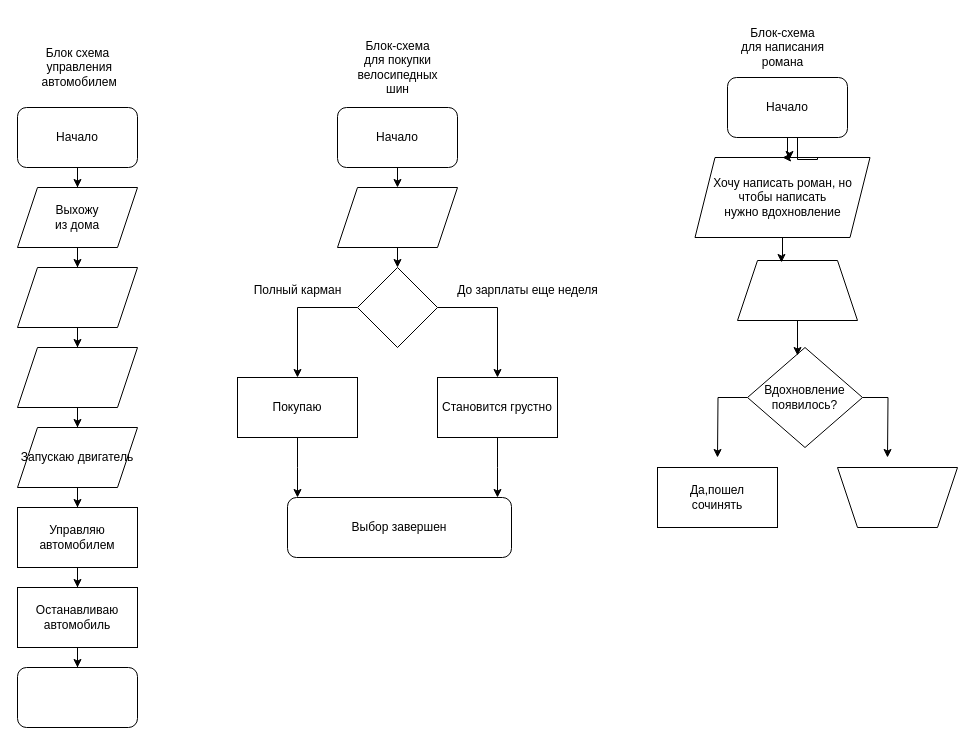
The diagram is 975 pixels wide and 745 high, and some of its shapes have lost their labels. Each missing label, with the centre of its shape:
Деньги есть?: the point at 397,307
Нет, кофе закончилось: the point at 897,497
Поездка завершена: the point at 77,697
Пью кофе пока не вдохновлюсь: the point at 797,290
Сажусь в машину: the point at 77,377
Снимаю с сигнализации: the point at 77,297
Хочу купить шины на велик: the point at 397,217
